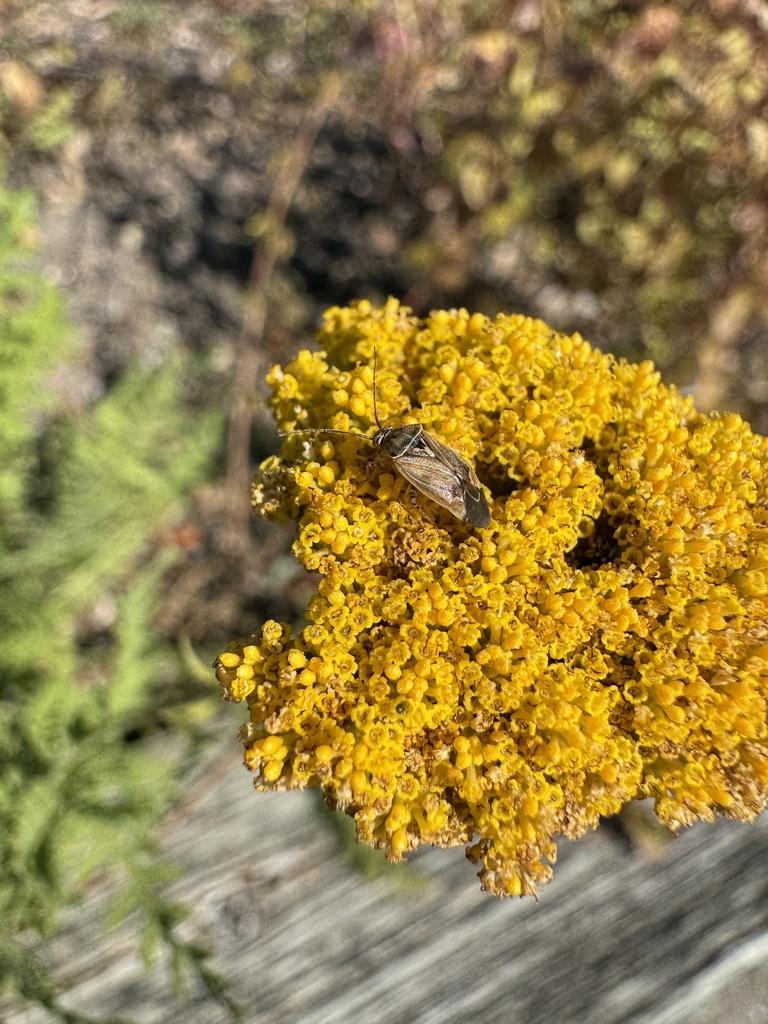plant_bugs: (276, 323, 544, 582)
